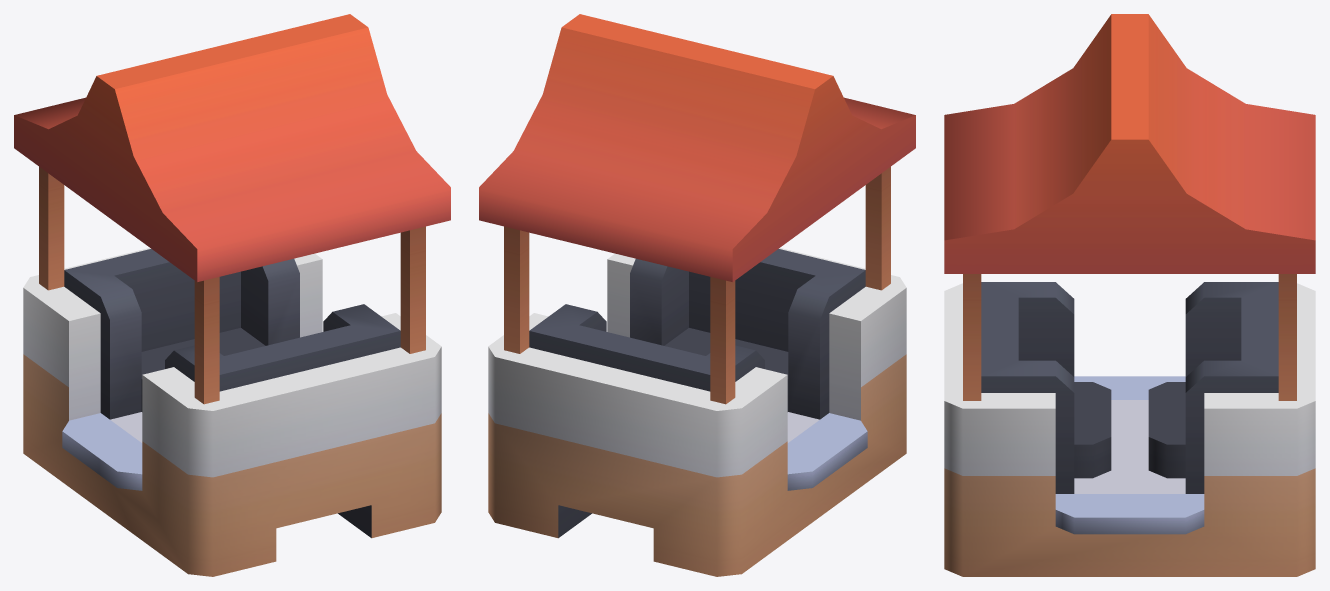
Rendered from kenney-coaster-train-monorail.glb.
3 views of the same model, side by side, from view 1: azimuth 30°, elevation 25°; view 2: azimuth 150°, elevation 25°; view 3: azimuth 270°, elevation 25° (orthographic).
Visible parts, largest first — view 1: train-monorail; view 2: train-monorail; view 3: train-monorail.
Part boxes in pixels (box(x1,y1,x2,y2)): train-monorail: box(14, 14, 450, 576); train-monorail: box(479, 14, 915, 576); train-monorail: box(944, 14, 1315, 576).
Size of the model in its own units: 0.9 by 1.3 by 1.
1 material, 1 textured.
